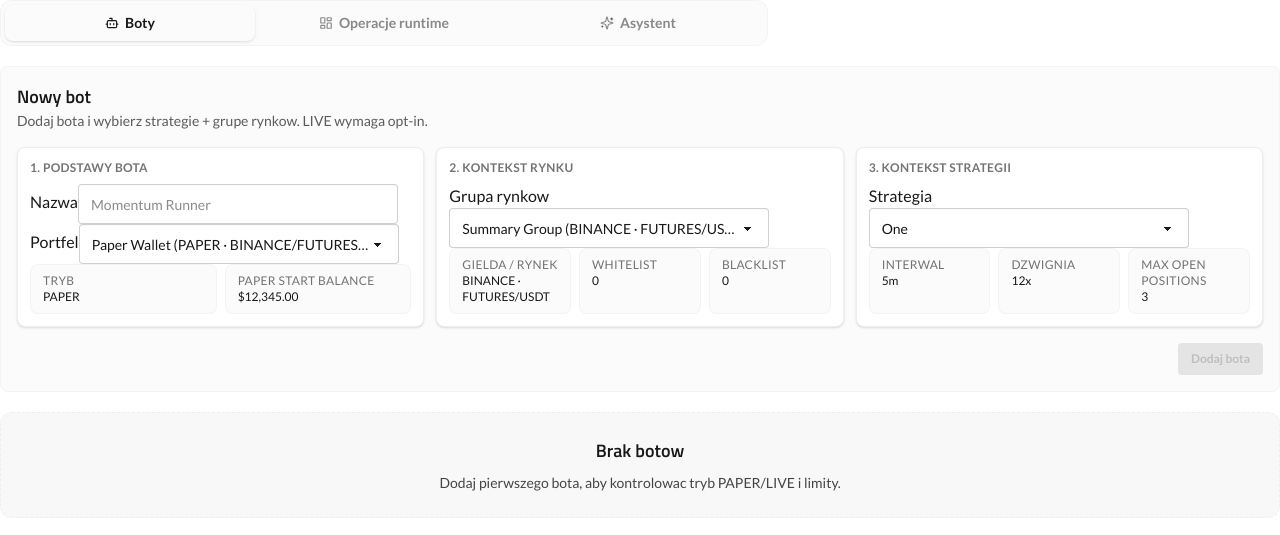
Test: BotsManagement › renders strategy-derived summary values for selected strategy
Expected: the text "3. Kontekst strategii" is shown, top-left (869, 160), bottom-right (1011, 175)
Expected: the text "5m" is shown, top-left (882, 273), bottom-right (898, 288)
Step 1. Select "Two" in the dropdown named "Strategia bota" → [1029, 228], box top-left (869, 208), bottom-right (1189, 248)
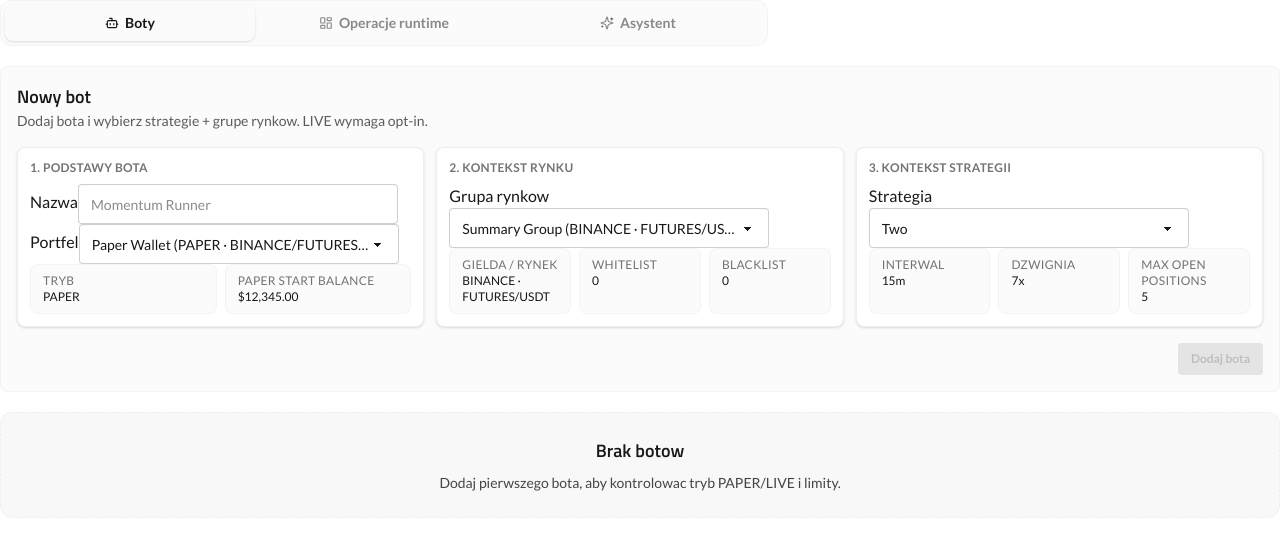
Expected: the text "15m" is shown, top-left (882, 273), bottom-right (906, 288)
Expected: the text "7x" is shown, top-left (1011, 273), bottom-right (1024, 288)
Expected: the text "5" is shown, top-left (1141, 289), bottom-right (1148, 304)
